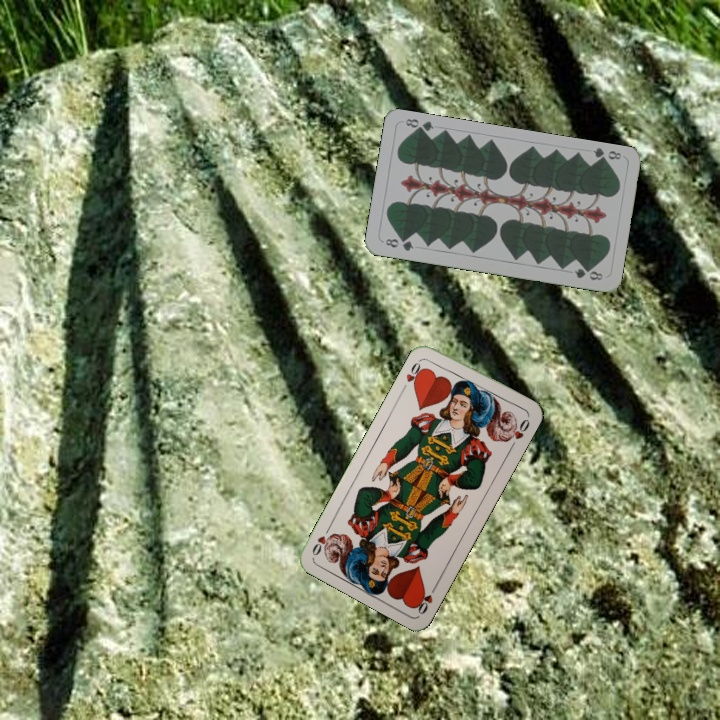G8: (589, 144, 624, 166), (381, 234, 416, 254)
HO: (412, 579, 440, 617), (399, 355, 427, 392)
